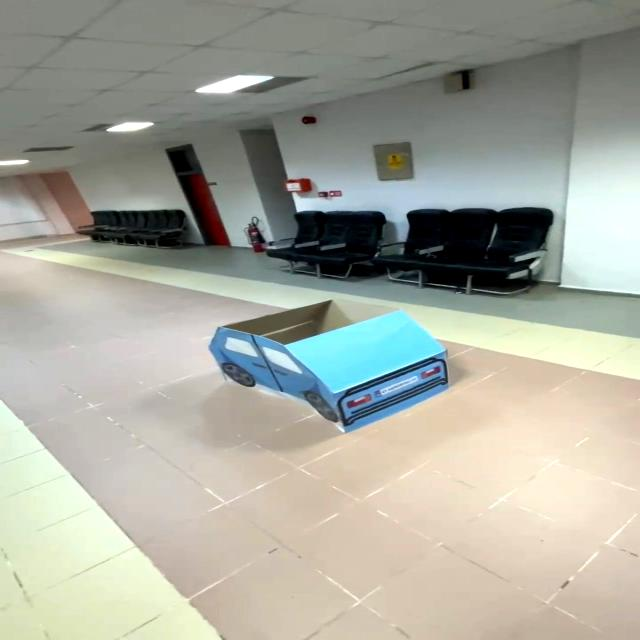blue_car: (188, 293, 478, 443)
